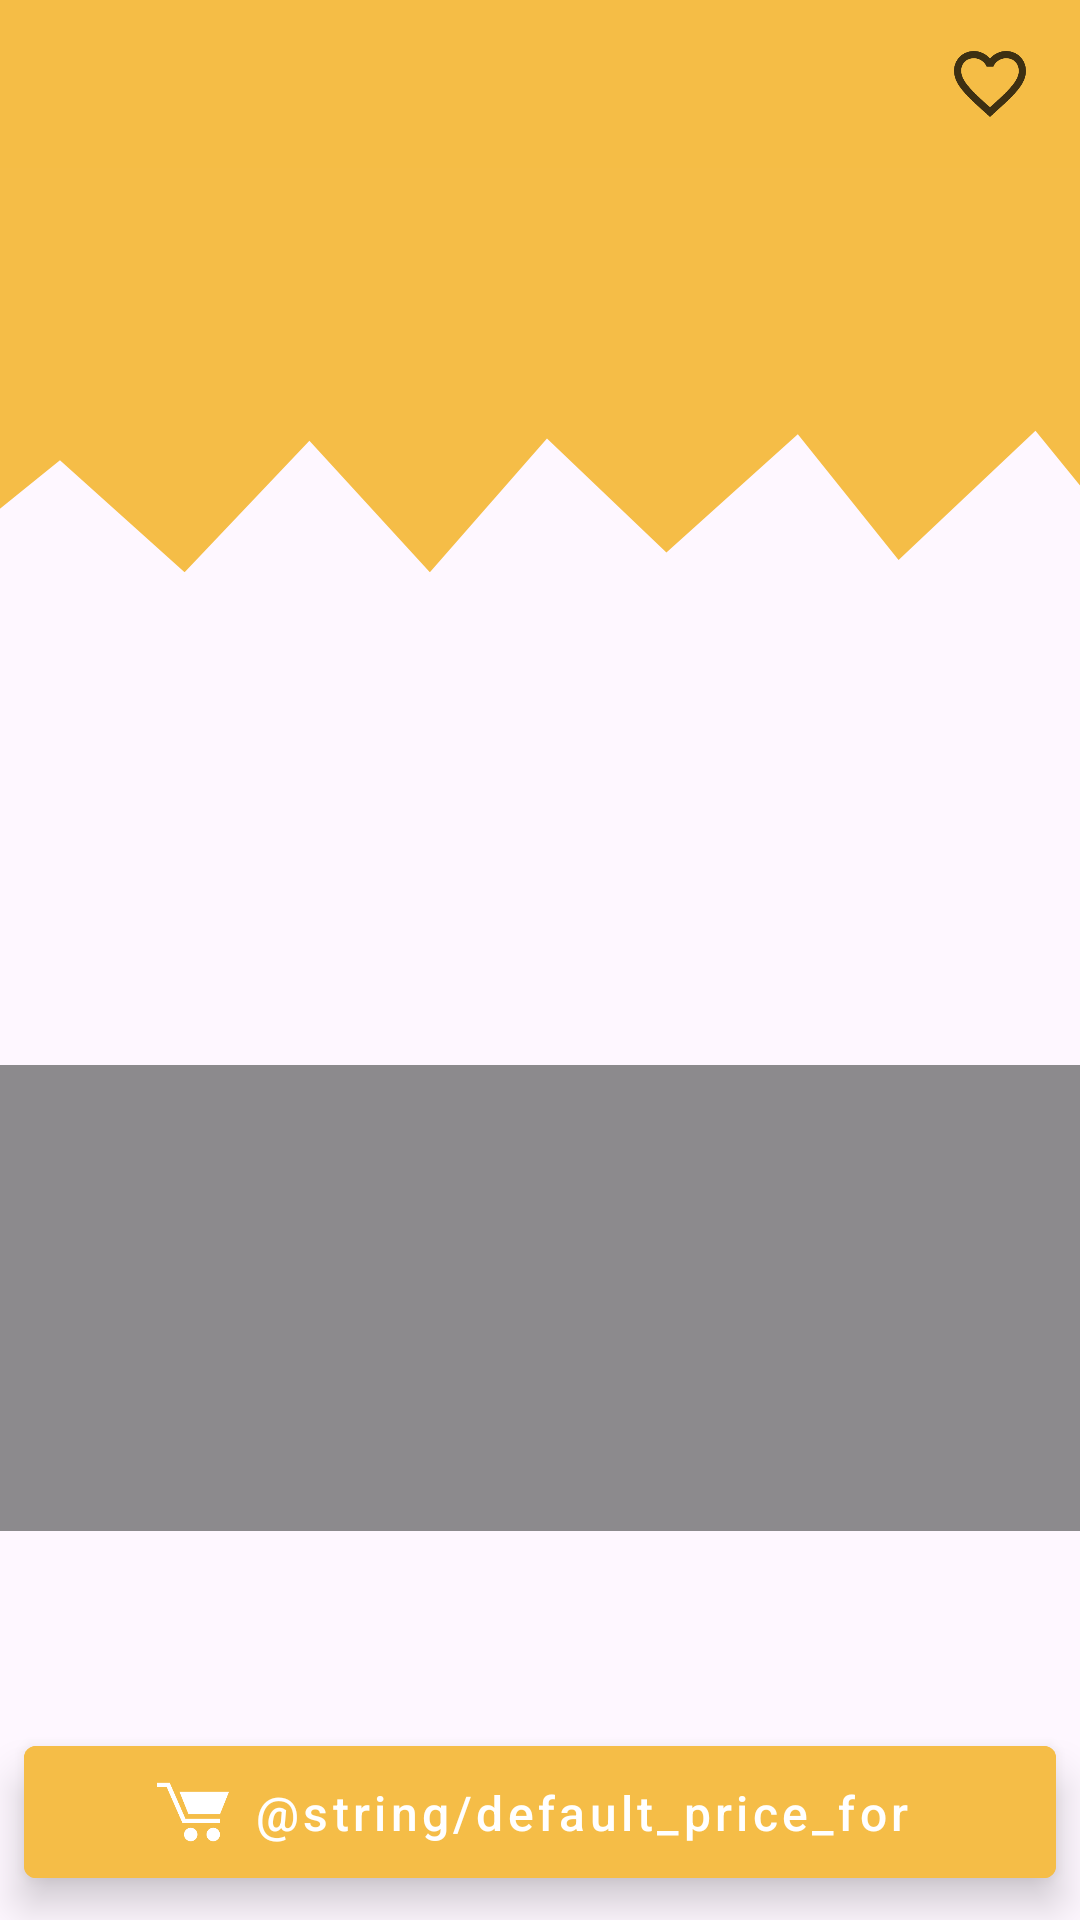

Where icons sit on this 1080 × 1920 app screen, as (x1, y1, x2, y2):
favorite: (954, 51, 1026, 117)
